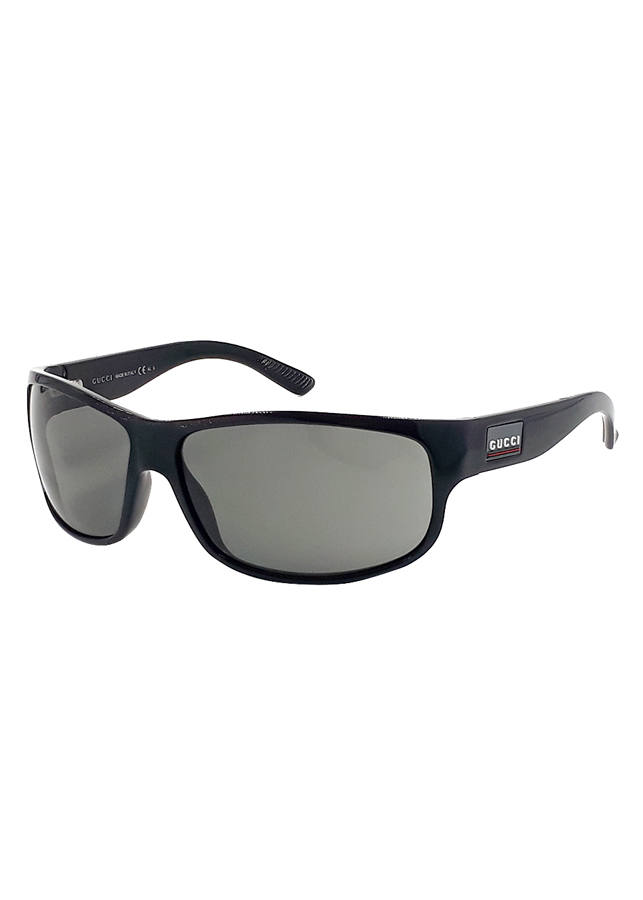Gucci: (483, 417, 527, 468), (84, 369, 119, 386)
